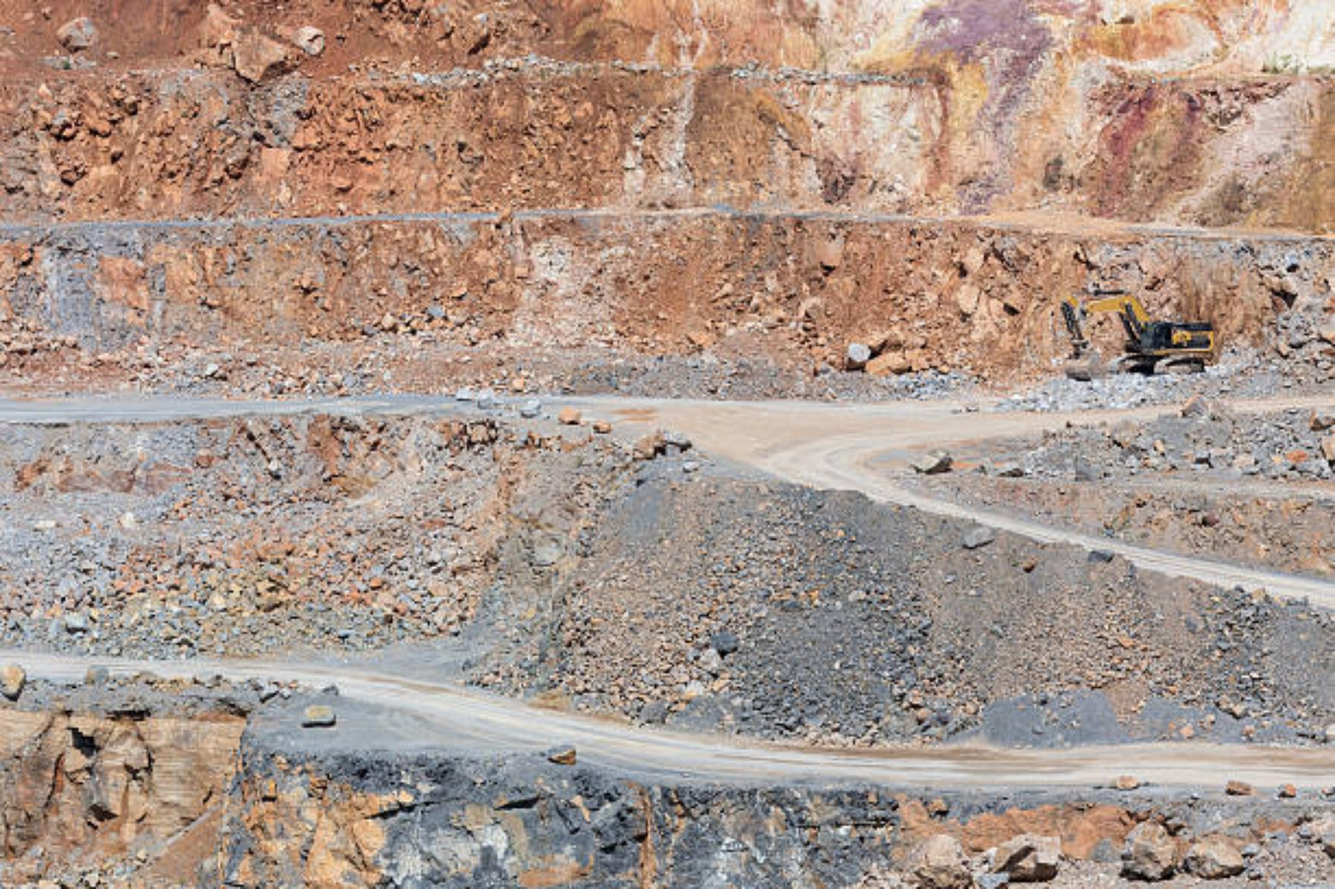benches: (0, 388, 1333, 610), (87, 660, 1333, 791)
excavator: (1060, 288, 1213, 373)
wall: (0, 416, 1333, 743), (0, 214, 1333, 366), (0, 46, 955, 218)
